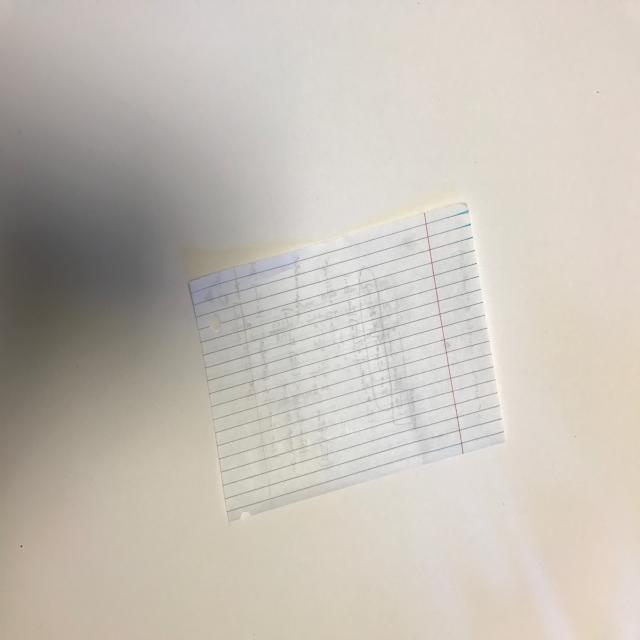paper: (187, 198, 506, 523)
